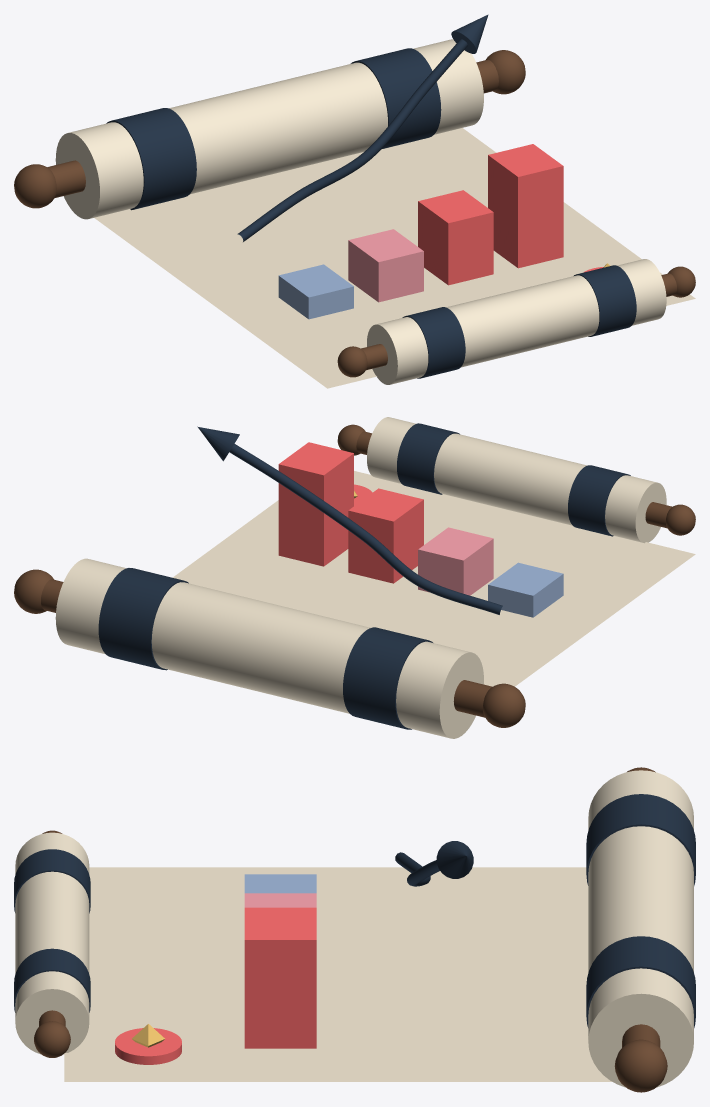
File: marketing_parchemin.glb
The picture shows the model from 3 angles, top to bottom: view 1: azimuth 30°, elevation 25°; view 2: azimuth 150°, elevation 25°; view 3: azimuth 270°, elevation 25°; orthographic projection. The views are drawn at different scales.
Visible parts, largest first — view 1: Feuille, Papier_roule (×2), Bande (×4), Barre_4, Barre_3, Barre_2, Pommeau (×4), Courbe, Barre_1, Embout, Pointe; view 2: Papier_roule (×2), Feuille, Bande (×4), Barre_4, Barre_3, Pommeau (×4), Barre_2, Courbe, Barre_1, Embout (×2), Pointe; view 3: Feuille, Papier_roule (×2), Bande (×4), Barre_4, Pommeau (×2), Sceau, Barre_1, Pointe, Barre_2, Courbe, Embout, Barre_3.
Boxes of the visible parts, x1=… form: Feuille: x1=94, y1=128, x2=695, y2=388; Papier_roule (×2): x1=55, y1=39, x2=666, y2=384; Bande (×4): x1=106, y1=48, x2=636, y2=378; Barre_4: x1=488, y1=144, x2=563, y2=268; Barre_3: x1=418, y1=190, x2=493, y2=285; Barre_2: x1=348, y1=229, x2=423, y2=302; Pommeau (×4): x1=14, y1=50, x2=695, y2=377; Courbe: x1=237, y1=39, x2=467, y2=241; Barre_1: x1=278, y1=264, x2=353, y2=319; Embout: x1=47, y1=160, x2=85, y2=198; Pointe: x1=451, y1=14, x2=488, y2=53; Papier_roule (×2): x1=55, y1=417, x2=666, y2=738; Feuille: x1=172, y1=471, x2=695, y2=686; Bande (×4): x1=98, y1=423, x2=630, y2=729; Barre_4: x1=278, y1=442, x2=353, y2=566; Barre_3: x1=348, y1=488, x2=423, y2=583; Pommeau (×4): x1=14, y1=424, x2=695, y2=727; Barre_2: x1=418, y1=527, x2=493, y2=595; Courbe: x1=229, y1=444, x2=502, y2=614; Barre_1: x1=488, y1=562, x2=563, y2=617; Embout (×2): x1=41, y1=579, x2=492, y2=717; Pointe: x1=197, y1=426, x2=239, y2=461; Feuille: x1=64, y1=867, x2=612, y2=1081; Papier_roule (×2): x1=15, y1=770, x2=693, y2=1087; Bande (×4): x1=14, y1=794, x2=695, y2=1027; Barre_4: x1=244, y1=913, x2=316, y2=1048; Pommeau (×2): x1=34, y1=1021, x2=667, y2=1092; Sceau: x1=115, y1=1028, x2=181, y2=1064; Barre_1: x1=244, y1=874, x2=316, y2=893; Pointe: x1=436, y1=841, x2=473, y2=878; Barre_2: x1=244, y1=893, x2=316, y2=907; Courbe: x1=395, y1=852, x2=439, y2=886; Embout: x1=622, y1=1024, x2=660, y2=1047; Barre_3: x1=244, y1=907, x2=316, y2=913.
Size of the model in its own units: 0.29 by 0.0956 by 0.2838.
